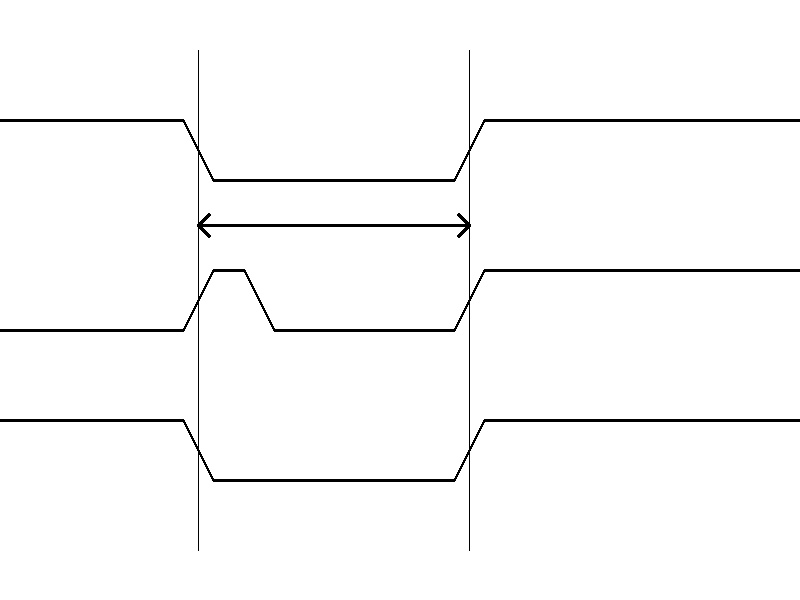double_arrow: (198, 210, 469, 240)
